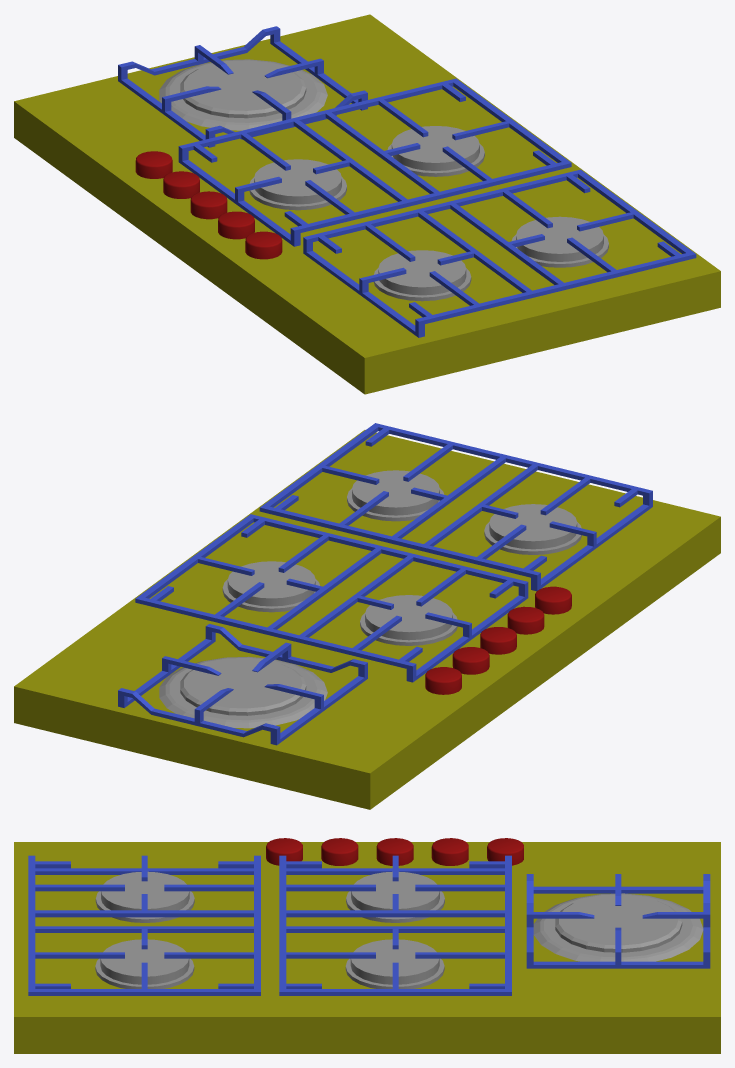
File: Estufa.FBX
3 views of the same model, one above another, from view 1: azimuth 30°, elevation 25°; view 2: azimuth 150°, elevation 25°; view 3: azimuth 270°, elevation 25° (orthographic).
Parts seen in each view (by area): view 1: Estufa_02, Estufa_01; view 2: Estufa_02, Estufa_01; view 3: Estufa_02, Estufa_01.
Part boxes in pixels (x1,y1,x2,y2): Estufa_02: (14, 14, 720, 394); Estufa_01: (135, 59, 608, 301); Estufa_02: (14, 423, 720, 809); Estufa_01: (159, 470, 581, 728); Estufa_02: (14, 842, 720, 1053); Estufa_01: (95, 838, 703, 988).
Bounding box in the file's own units: 51 × 7.21 × 87.
